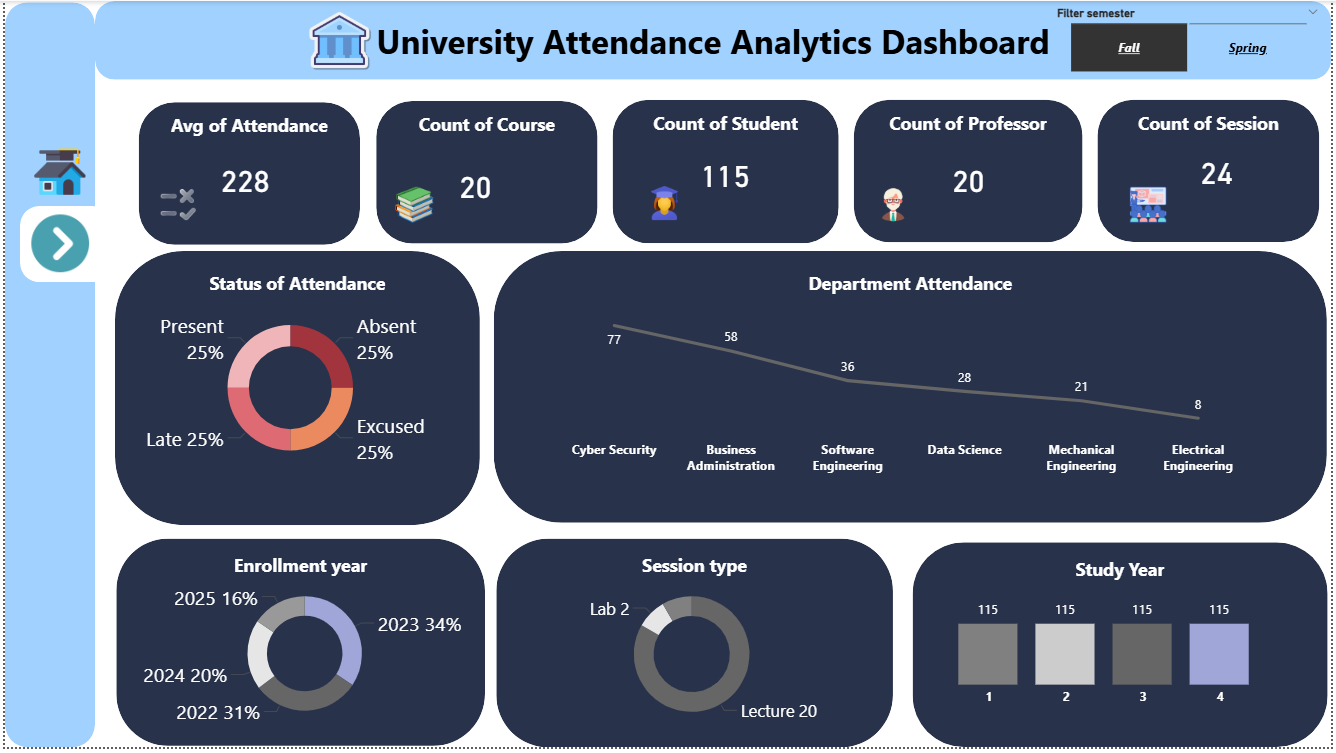

This screenshot's page, from the dashboard's own definition file:
{"tool":"powerbi","page":{"name":"dashboard 2","canvas":[1280,720],"ordinal":1},"visuals":[{"type":"shape","box":[0,0,1280.3,720.6],"z":0},{"type":"shape","title":"Cont","box":[570.3,47.9,213.5,137.5],"z":0,"group":"g3"},{"type":"shape","title":"Cont","box":[94.4,49.2,213.5,137.5],"z":0,"group":"g8"},{"type":"group","id":"g1","title":"Group 1","box":[329.7,49.2,214,138.3],"z":0,"group":"g2"},{"type":"shape","title":"Cont","box":[329.7,49.2,213.5,137.5],"z":0,"group":"g1"},{"type":"shape","title":"Cont","box":[804.3,49.2,220.8,137.5],"z":0,"group":"g7"},{"type":"shape","title":"Cont","box":[1041,49.2,213.5,137.5],"z":0,"group":"g5"},{"type":"shape","title":"Cont","box":[464,204.8,791,279.2],"z":0,"group":"g9"},{"type":"shape","title":"Cont","box":[94.4,206.1,352.3,277.9],"z":0,"group":"g10"},{"type":"shape","title":"Cont","box":[94.4,498.6,352.3,222],"z":0,"group":"g13"},{"type":"shape","title":"Cont","box":[464,498.6,378.9,222],"z":0,"group":"g11"},{"type":"shape","title":"Cont","box":[861.5,498.6,400.2,222],"z":0,"group":"g12"},{"type":"lineChart","fields":{"Category":["dim_department.department_name"],"Y":["Count(fact_attendance.attendance_key)"]},"box":[494.6,262.9,695.3,179.6],"z":5,"group":"g9"},{"type":"donutChart","fields":{"Category":["fact_attendance.attendance_status"],"Y":["Sum(dim_student.student_id)"]},"box":[109,256.9,309.8,176.3],"z":6,"group":"g10"},{"type":"donutChart","fields":{"Y":["CountNonNull(dim_session.day_of_week)"],"Category":["dim_session.session_type"]},"box":[484.4,536.8,333.1,168.8],"z":6,"group":"g11"},{"type":"donutChart","fields":{"Y":["Sum(dim_student.student_key)"],"Category":["dim_student.enrollment_year"]},"box":[114.5,537.2,319.9,168.8],"z":6,"group":"g13"},{"type":"donutChart","fields":{"Y":["Sum(dim_student.student_id)"],"Category":["dim_course.study_year"]},"box":[871.6,545.6,351.8,140.8],"z":6,"group":"g12"},{"type":"group","id":"g2","title":"Group 6","box":[94.4,47.9,1167.3,672.7],"z":1000},{"type":"group","id":"g3","title":"Group 1","box":[570.3,47.9,213.5,137.5],"z":1000,"group":"g6"},{"type":"group","id":"g4","title":"Group 2","box":[804.3,49.2,222,155.5],"z":1000,"group":"g2"},{"type":"card","fields":{"Values":["Count(fact_attendance.attendance_key)"]},"box":[143,73.4,109.5,101],"z":1000,"group":"g8"},{"type":"card","fields":{"Values":["CountNonNull(dim_course.course_id)"]},"box":[378,79.4,117,95.3],"z":1000,"group":"g1"},{"type":"card","fields":{"Values":["CountNonNull(dim_session.session_key)"]},"box":[1089.3,79.4,117,95.3],"z":1000,"group":"g5"},{"type":"shape","box":[0,47.3,79.8,672.7],"z":2000},{"type":"group","id":"g5","title":"Group 1","box":[1041,49.2,214,138.3],"z":2000,"group":"g2"},{"type":"card","fields":{"Values":["CountNonNull(dim_student.student_id)"]},"box":[602.9,90.1,149.6,77.2],"z":2000,"group":"g6"},{"type":"shape","box":[0,0,1280.3,47.9],"z":3000},{"type":"group","id":"g6","title":"Group 3","box":[570.3,47.9,214,138.3],"z":3000,"group":"g2"},{"type":"group","id":"g7","title":"Group 1","box":[804.3,49.2,220.8,137.5],"z":3000,"group":"g4"},{"type":"group","id":"g8","title":"Group 1","box":[94.4,49.2,214,138.3],"z":4000,"group":"g2"},{"type":"card","fields":{"Values":["Count(dim_professor.professor_key)"]},"box":[823.5,55.2,178.4,149.6],"z":4000,"group":"g4"},{"type":"image","box":[13.3,138.3,53.2,54.5],"z":4000},{"type":"shape","box":[6.6,196.8,79.8,73.1],"z":5000},{"type":"group","id":"g9","title":"Group 4","box":[464,204.8,791,279.2],"z":5000,"group":"g2"},{"type":"image","box":[13.3,203.4,59.8,58.5],"z":6000},{"type":"group","id":"g10","title":"Group 5","box":[94.4,206.1,352.3,277.9],"z":6000,"group":"g2"},{"type":"group","id":"g11","title":"Group 5","box":[464,498.6,378.9,222],"z":8000,"group":"g2"},{"type":"group","id":"g12","title":"Group 5","box":[861.5,498.6,400.2,222],"z":8000,"group":"g2"},{"type":"group","id":"g13","title":"Group 5","box":[94.4,498.6,352.3,222],"z":8001,"group":"g2"}]}

Visuals, with their boxes in screenshot pixels (x1, y1, x2, y2), scaled from the page's 1280x720 canvas onto the 1336x753 screenshot:
shape: 0:0:1335:752
"Cont" shape: 595:50:818:194
"Cont" shape: 99:51:321:195
"Group 1" group: 344:51:567:196
"Cont" shape: 344:51:567:195
"Cont" shape: 839:51:1070:195
"Cont" shape: 1087:51:1309:195
"Cont" shape: 484:214:1310:506
"Cont" shape: 99:216:466:506
"Cont" shape: 99:521:466:752
"Cont" shape: 484:521:880:752
"Cont" shape: 899:521:1317:752
lineChart - dim_department.department_name x Count(fact_attendance.attendance_key): 516:275:1242:463
donutChart - fact_attendance.attendance_status x Sum(dim_student.student_id): 114:269:437:453
donutChart - CountNonNull(dim_session.day_of_week) x dim_session.session_type: 506:561:853:738
donutChart - Sum(dim_student.student_key) x dim_student.enrollment_year: 120:562:453:738
donutChart - Sum(dim_student.student_id) x dim_course.study_year: 910:571:1277:718
"Group 6" group: 99:50:1317:752
"Group 1" group: 595:50:818:194
"Group 2" group: 839:51:1071:214
card - Count(fact_attendance.attendance_key): 149:77:264:182
card - CountNonNull(dim_course.course_id): 395:83:517:183
card - CountNonNull(dim_session.session_key): 1137:83:1259:183
shape: 0:49:83:752
"Group 1" group: 1087:51:1310:196
card - CountNonNull(dim_student.student_id): 629:94:785:175
shape: 0:0:1335:50
"Group 3" group: 595:50:819:195
"Group 1" group: 839:51:1070:195
"Group 1" group: 99:51:322:196
card - Count(dim_professor.professor_key): 860:58:1046:214
image: 14:145:69:202
shape: 7:206:90:282
"Group 4" group: 484:214:1310:506
image: 14:213:76:274
"Group 5" group: 99:216:466:506
"Group 5" group: 484:521:880:752
"Group 5" group: 899:521:1317:752
"Group 5" group: 99:521:466:752
